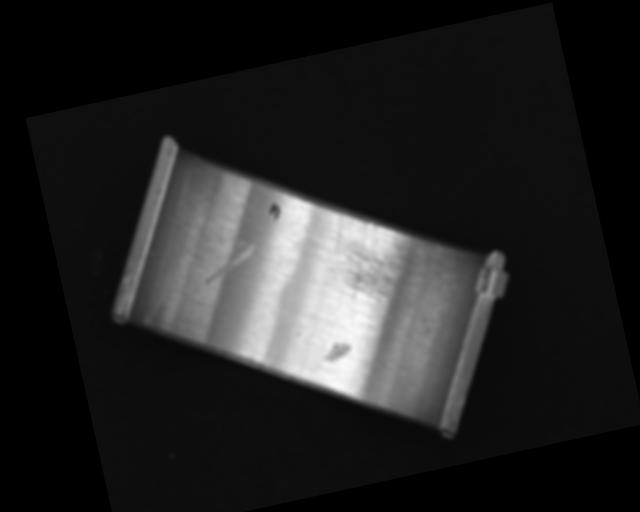blot: (267, 201, 283, 222)
bruise: (320, 339, 354, 363)
nick: (239, 181, 282, 267), (199, 240, 261, 284)
scratch: (315, 193, 445, 317)
